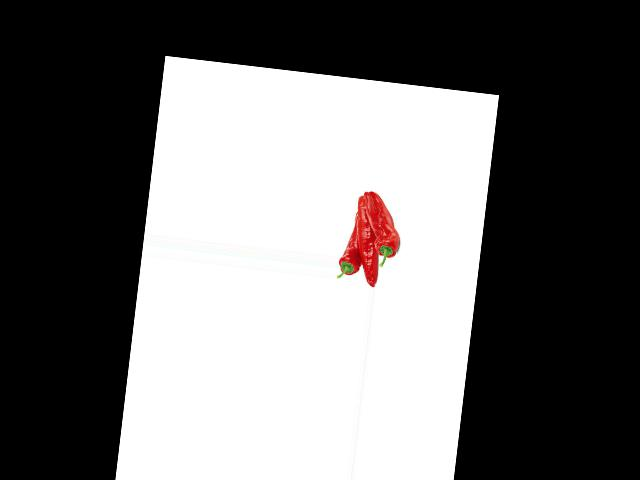bell_pepper: (364, 190, 407, 270)
